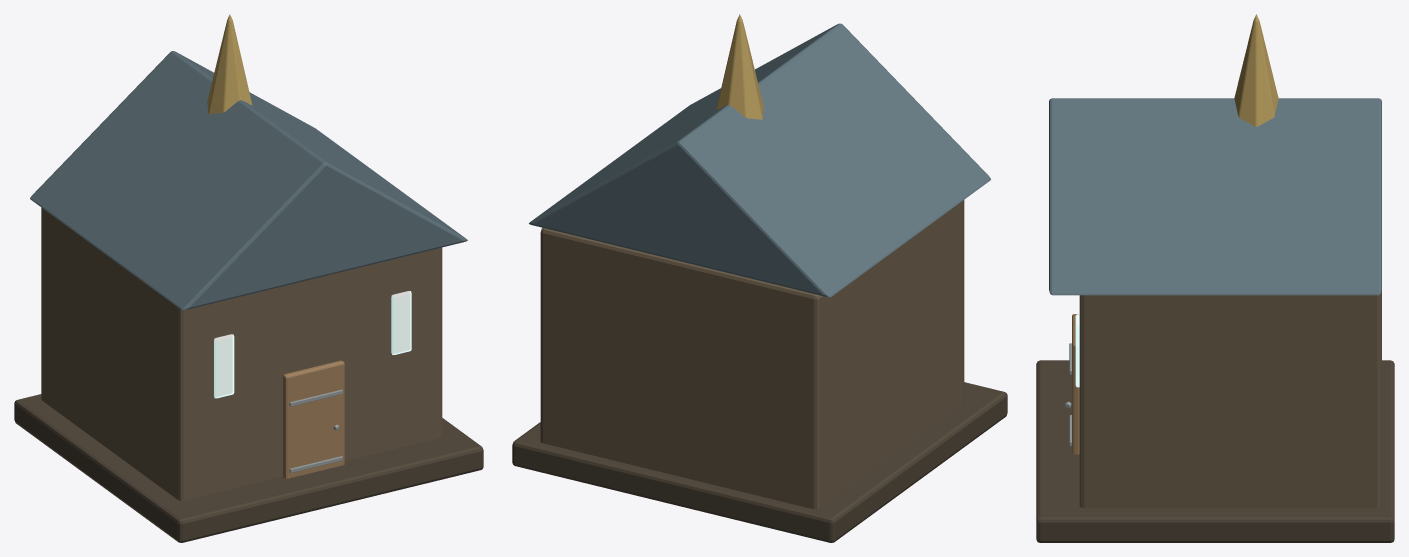
The model's file is street_chapel.glb.
3 renders of one model, left to right at view 1: azimuth 30°, elevation 25°; view 2: azimuth 150°, elevation 25°; view 3: azimuth 270°, elevation 25°, orthographic. The views are drawn at different scales.
Visible parts, largest first — view 1: ChapelBellSpire, LancetWindow; view 2: ChapelBellSpire; view 3: ChapelBellSpire.
Boxes of the visible parts, x1=… form: ChapelBellSpire: x1=14, y1=14, x2=483, y2=542; LancetWindow: x1=214, y1=291, x2=411, y2=398; ChapelBellSpire: x1=512, y1=14, x2=1007, y2=542; ChapelBellSpire: x1=1036, y1=14, x2=1394, y2=542.
Size of the model in its own units: 7.4 by 9.7 by 7.
Materials: 2 (2 with a texture image).
